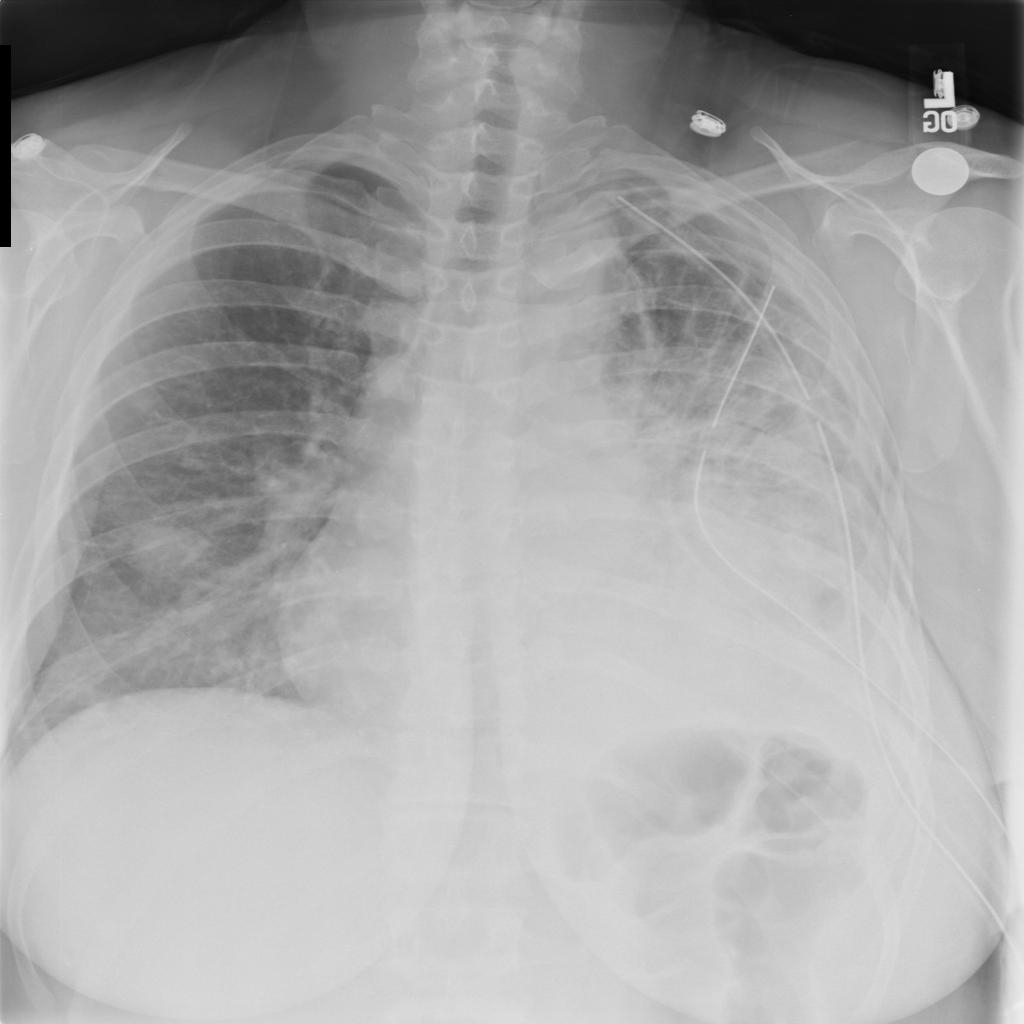nodule: (112, 502, 232, 603), (337, 477, 415, 549)
